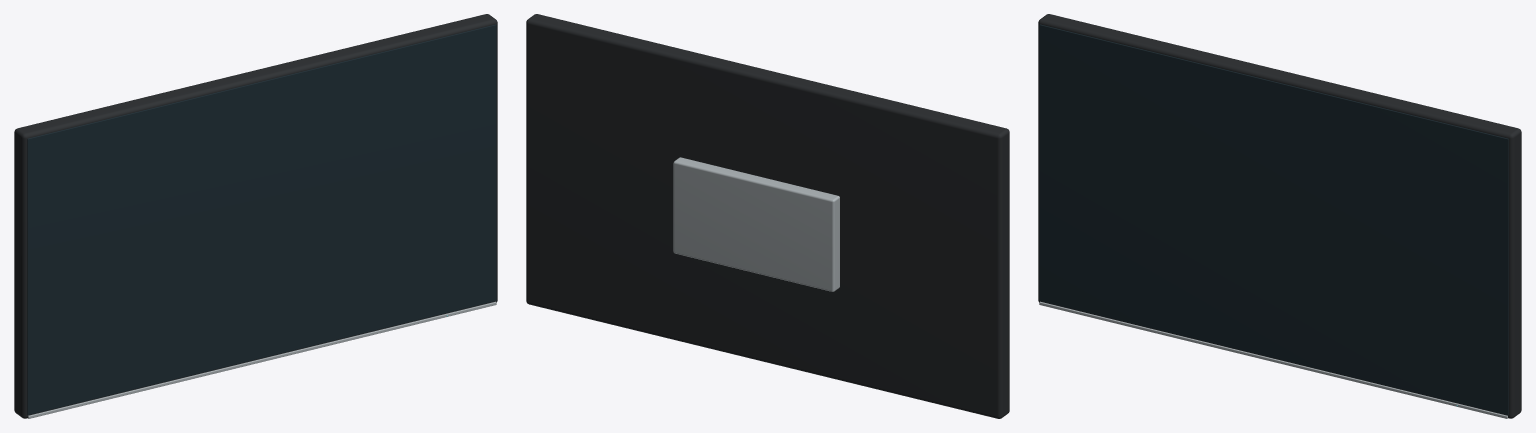
File: wall_television.glb
3 views of the same model, side by side, from view 1: azimuth 30°, elevation 25°; view 2: azimuth 150°, elevation 25°; view 3: azimuth 330°, elevation 25° (orthographic).
Visible parts, largest first — view 1: 家具_wall_television; view 2: 家具_wall_television; view 3: 家具_wall_television.
Boxes of the visible parts, x1=… form: 家具_wall_television: x1=14, y1=14, x2=497, y2=418; 家具_wall_television: x1=526, y1=14, x2=1009, y2=418; 家具_wall_television: x1=1038, y1=14, x2=1521, y2=418.
Bounding box in the file's own units: 1.24 × 0.71 × 0.1.
